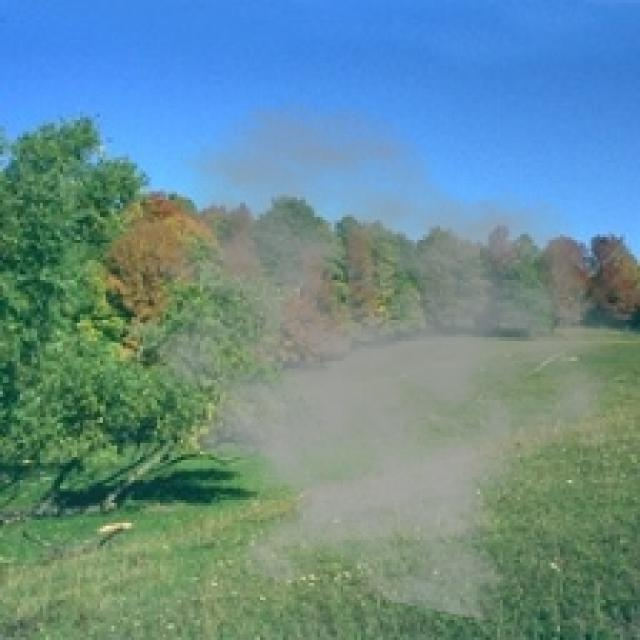Smoke: (97, 97, 637, 626)
